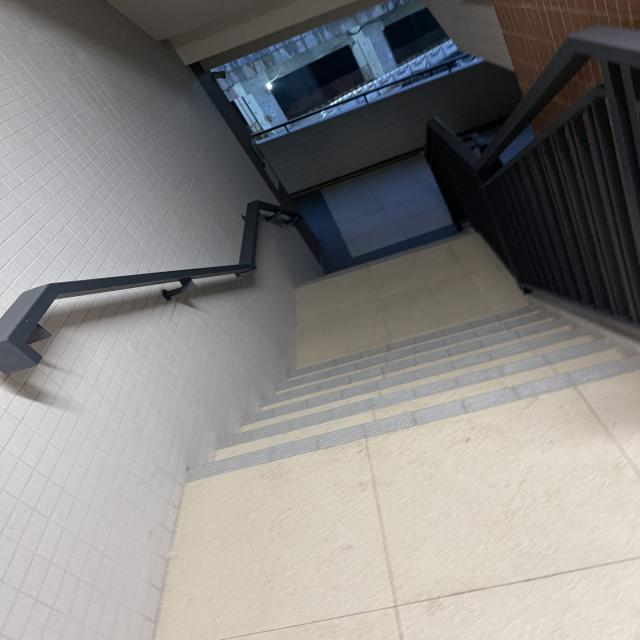Stairs: (136, 214, 640, 608)
